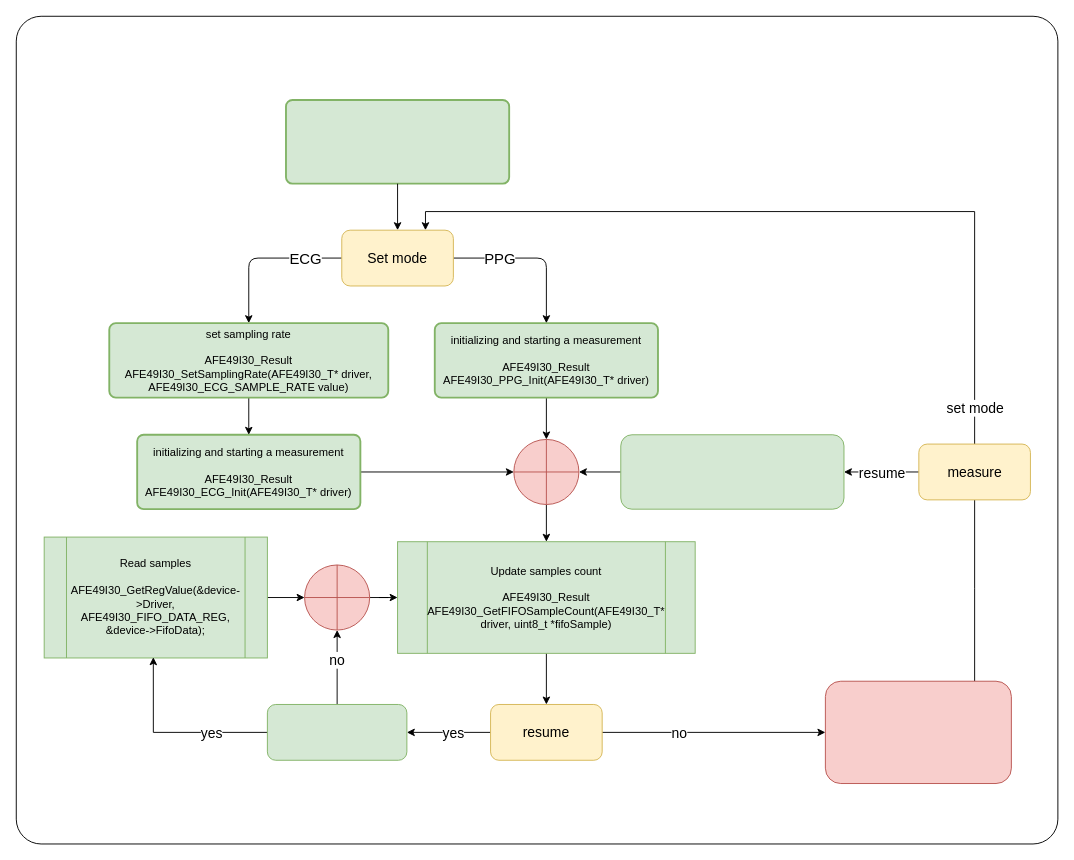
Some shapes in this 1074 by 860 pixel diagram are drawn without their labels. The shapes that lost their labels are listed below. From the top down, each one's centre as x and y in pixels, then its label:
the point at 397,141: Driver initialization init stmdev_ctx_t
the point at 732,471: Start measurement AFE49I30_Result AFE49I30_StartFIFO(AFE49I30_T* driver)
the point at 336,732: samples count > 0
the point at 917,732: Stop measure AFE49I30_Result AFE49I30_StopFIFO(AFE49I30_T* driver)
